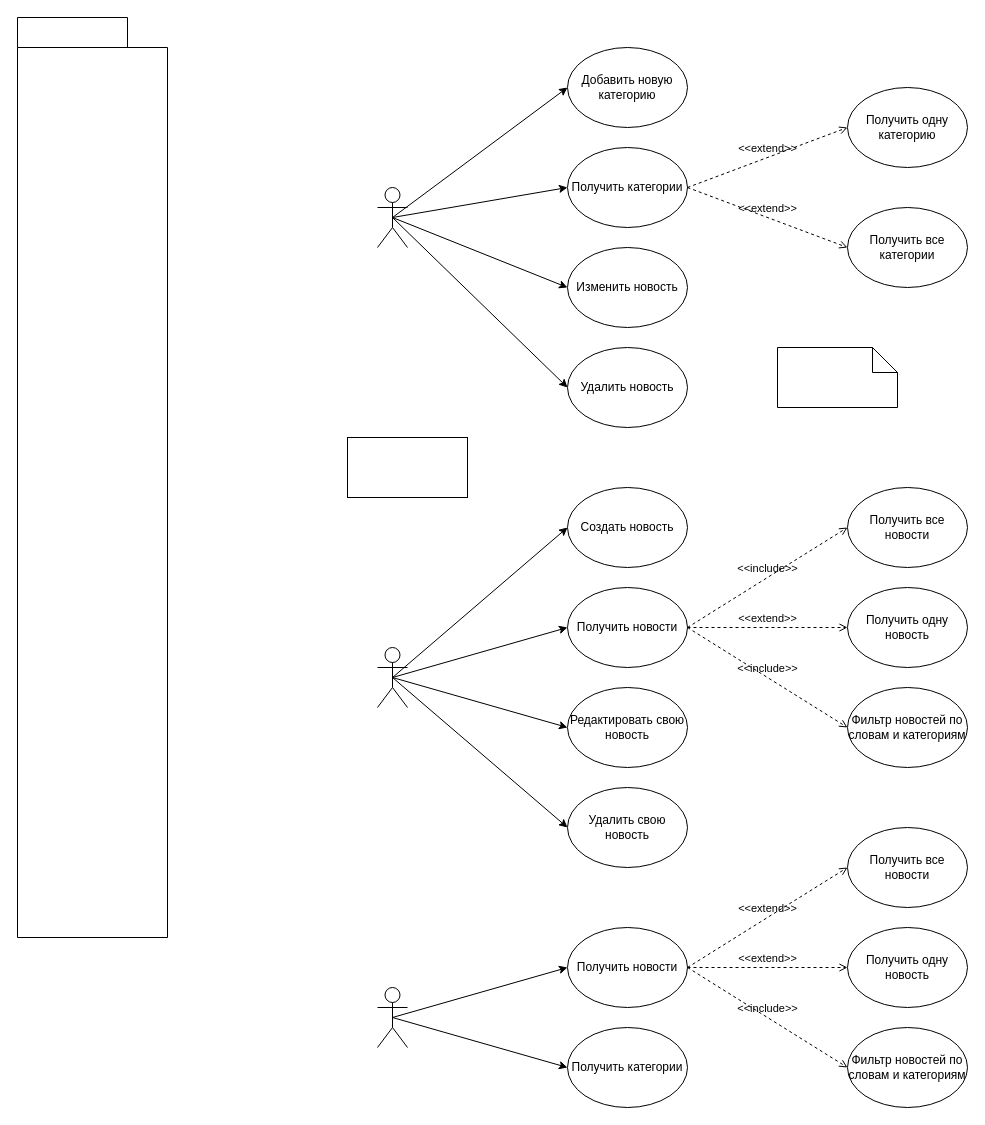
Some shapes in this 985 by 1125 pixel diagram are drawn without their labels. The shapes that lost their labels are listed below. From the top down, each one's centre as x and y in pixels, then its label:
pixel 392 217: Администратор
pixel 837 377: Comment1 body
pixel 92 477: Сервис новостей
pixel 407 467: Комментарии Монетизация Чат
pixel 392 677: Автор
pixel 392 1017: Читатель
